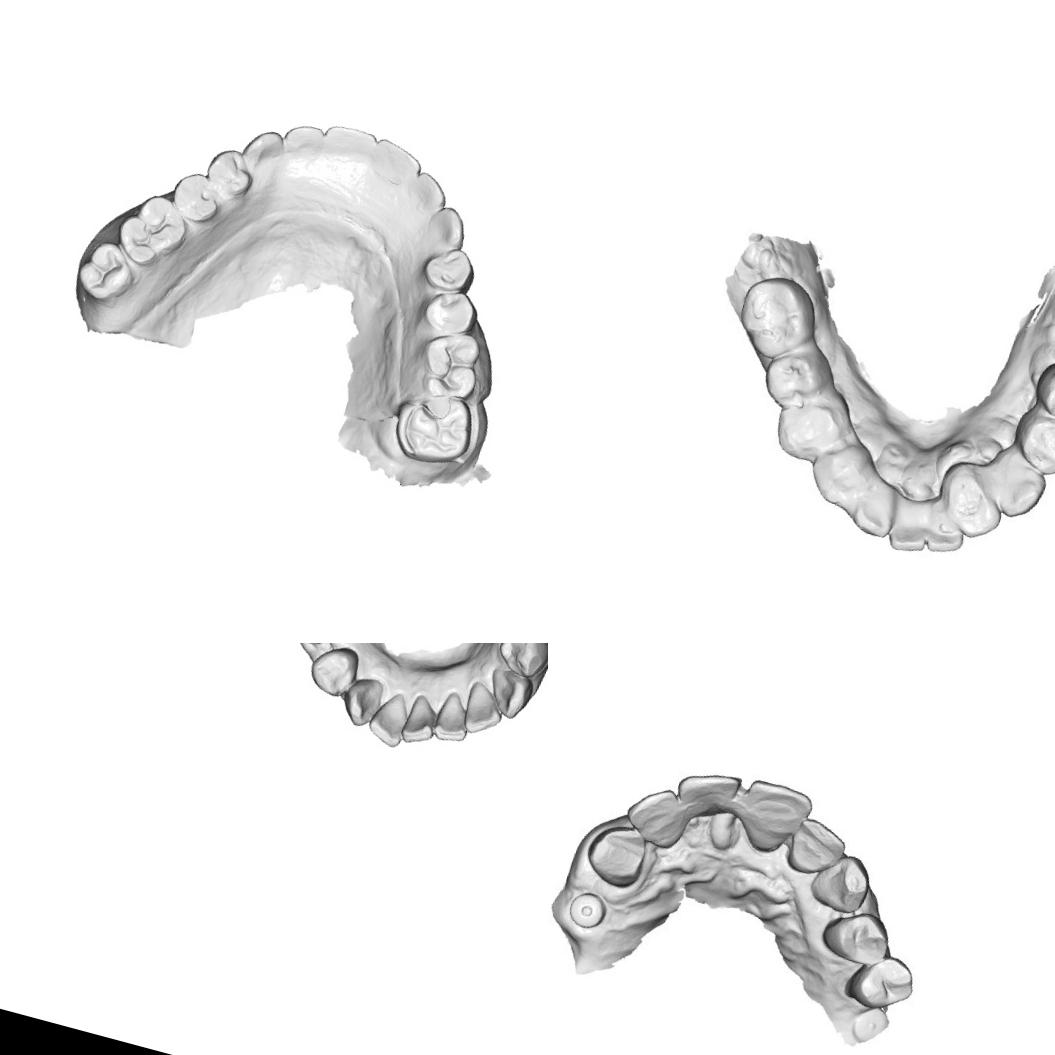canine: (577, 814, 651, 889), (806, 437, 875, 510), (806, 848, 876, 917), (990, 454, 1051, 520), (480, 665, 540, 724), (336, 668, 387, 734), (235, 122, 290, 178), (420, 200, 472, 254)
implant: (564, 886, 612, 934), (848, 1003, 890, 1047)
incisor: (734, 777, 812, 858), (940, 466, 1008, 540), (671, 762, 741, 829), (623, 782, 688, 848), (314, 118, 380, 178), (788, 812, 847, 879), (364, 134, 428, 190), (453, 676, 508, 741), (362, 686, 416, 752), (918, 498, 971, 558), (846, 479, 898, 540), (425, 686, 476, 746), (397, 690, 442, 750), (403, 167, 454, 219), (277, 116, 327, 168), (886, 500, 932, 555)
molar: (724, 266, 819, 368), (384, 381, 480, 474), (109, 184, 197, 276), (413, 324, 488, 406), (70, 234, 143, 310)
premolar: (757, 340, 833, 419), (816, 901, 898, 971), (773, 392, 848, 466), (842, 948, 920, 1018), (164, 166, 227, 229), (418, 282, 484, 340), (302, 643, 363, 703), (417, 239, 480, 297), (200, 142, 260, 201), (1017, 410, 1055, 475), (491, 643, 548, 682), (1029, 353, 1055, 438)
